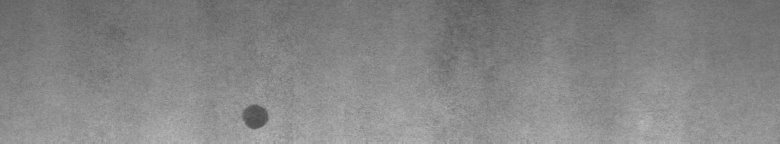fi: (238, 97, 275, 136)
